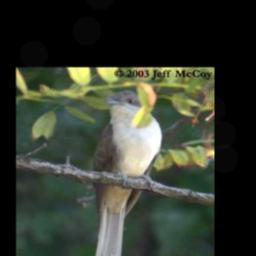Cuckoo: (88, 89, 162, 256)
